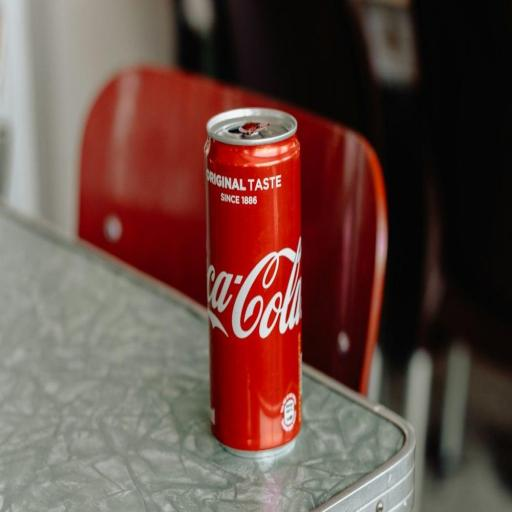can: (204, 107, 302, 458)
